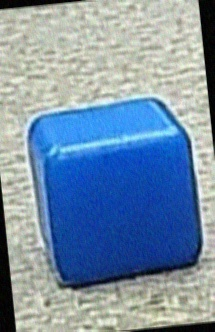blue_cube: (13, 90, 214, 295)
